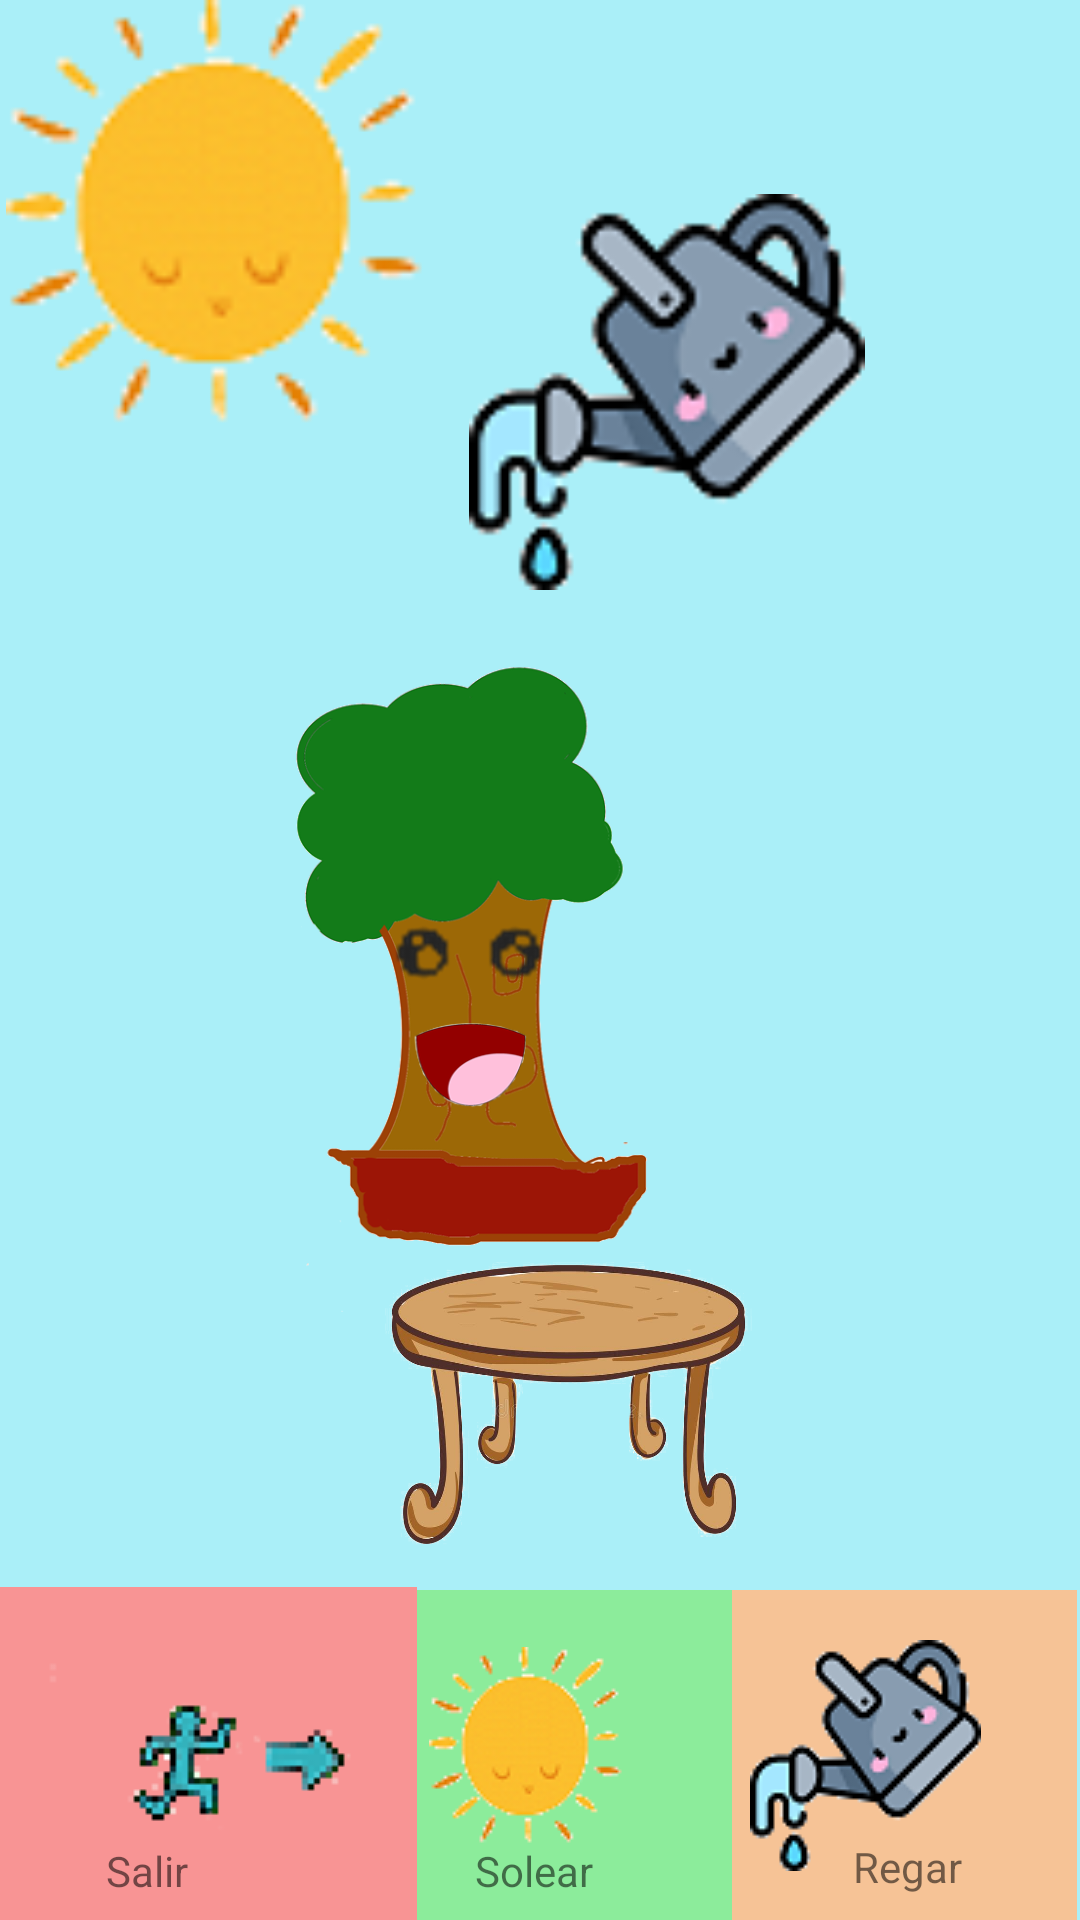

Icons on this 1080px×1920px Android screen, each with its box as (x1, y1, x2, y2):
mesa: (391, 1264, 746, 1544)
